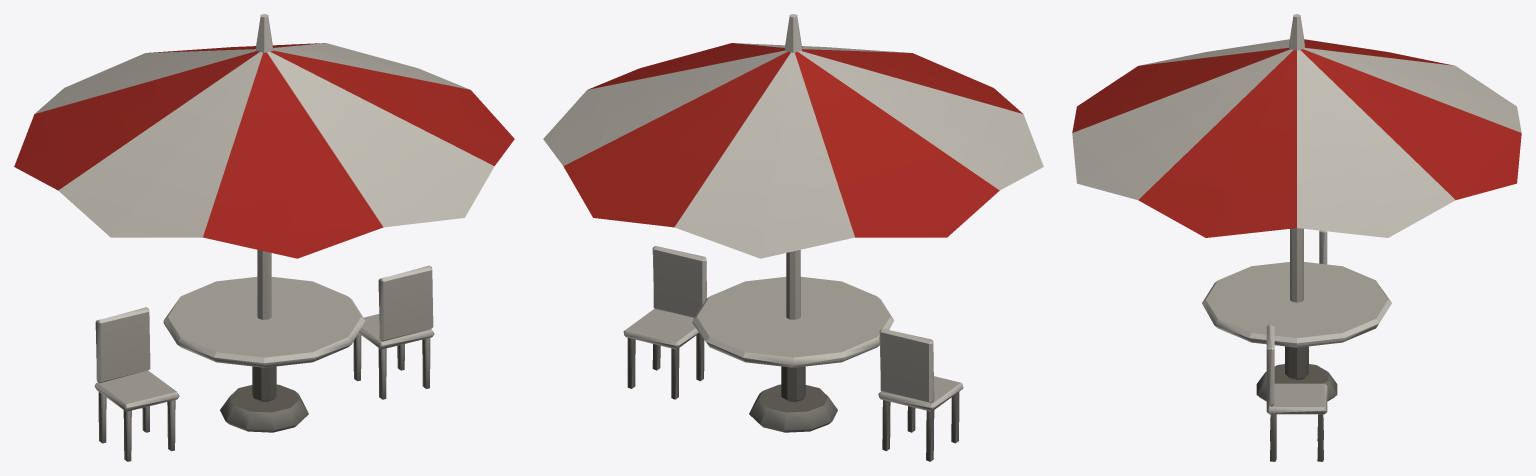
The model's file is cafe-umbrella-v1.lod1.glb.
The picture shows the model from 3 angles, left to right: view 1: azimuth 30°, elevation 25°; view 2: azimuth 150°, elevation 25°; view 3: azimuth 270°, elevation 25°; orthographic projection. The views are drawn at different scales.
Visible parts, largest first — view 1: cafe-umbrella-v1.lod1; view 2: cafe-umbrella-v1.lod1; view 3: cafe-umbrella-v1.lod1.
Part boxes in pixels (x1,y1,x2,y2): cafe-umbrella-v1.lod1: [14, 14, 514, 461]; cafe-umbrella-v1.lod1: [543, 14, 1043, 461]; cafe-umbrella-v1.lod1: [1072, 14, 1521, 461].
Bounding box in the file's own units: 3.4 × 3.15 × 3.4.
